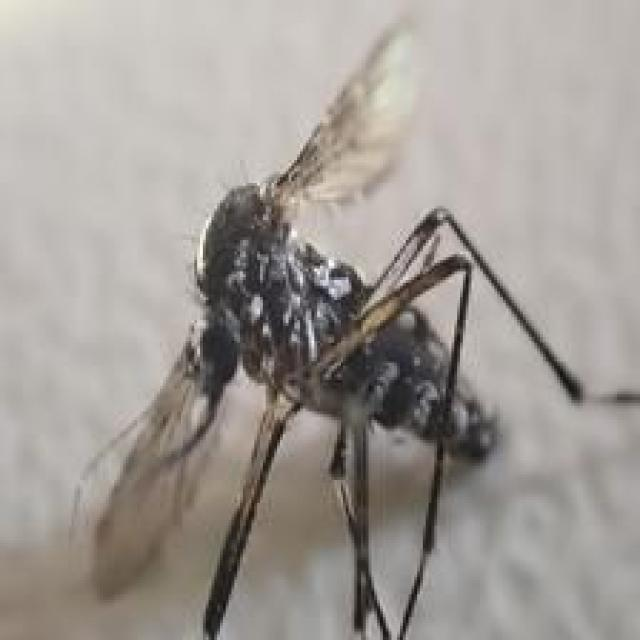Aedes albopictus: (68, 14, 640, 639)
